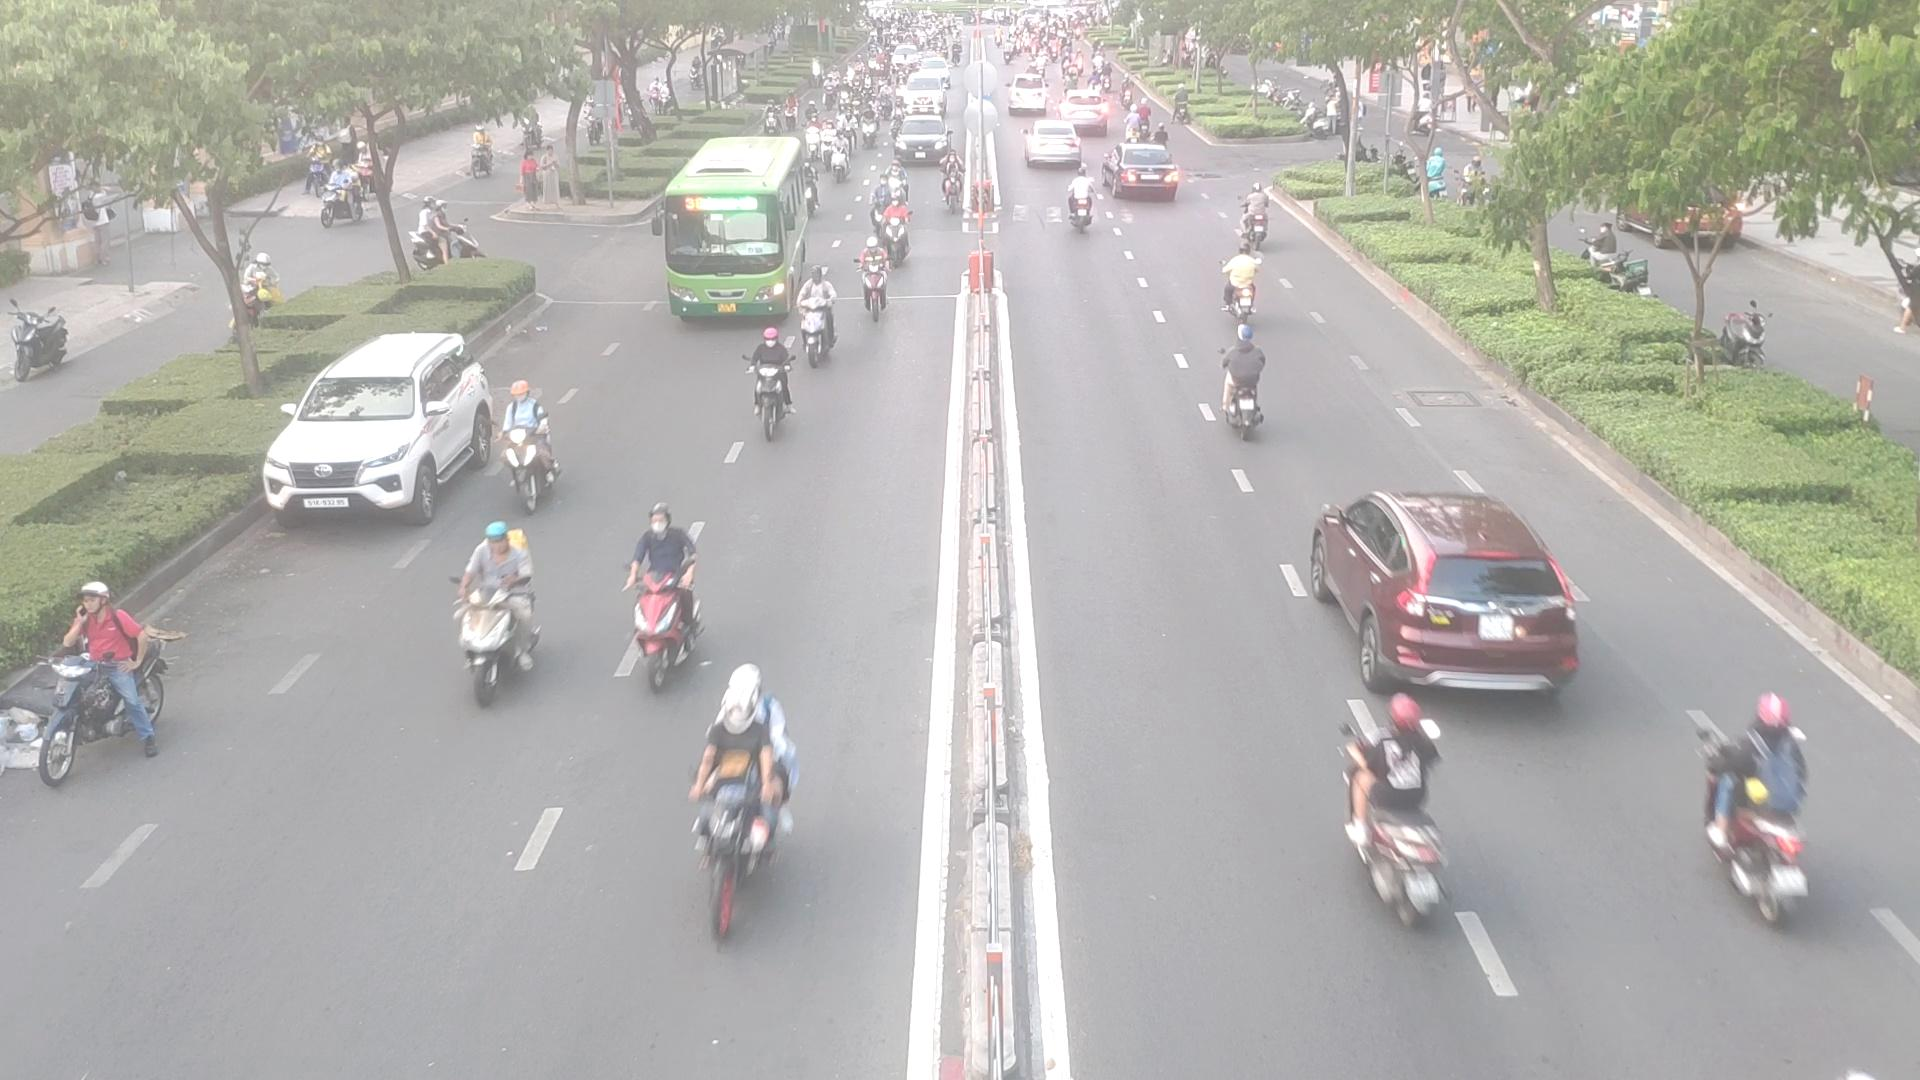bus: (647, 135, 802, 324)
car: (1300, 488, 1588, 695), (266, 332, 487, 527), (1102, 141, 1182, 199), (1027, 124, 1087, 169)
motorbike: (8, 588, 179, 781), (669, 698, 794, 936), (1696, 767, 1813, 922), (1332, 775, 1444, 918), (450, 522, 539, 698), (618, 504, 696, 683), (1205, 322, 1286, 448), (502, 376, 564, 517), (750, 324, 812, 436), (404, 200, 487, 269), (799, 269, 845, 371), (855, 240, 897, 331), (1222, 255, 1265, 323), (866, 204, 909, 265), (1058, 177, 1098, 233), (1242, 183, 1275, 253)
